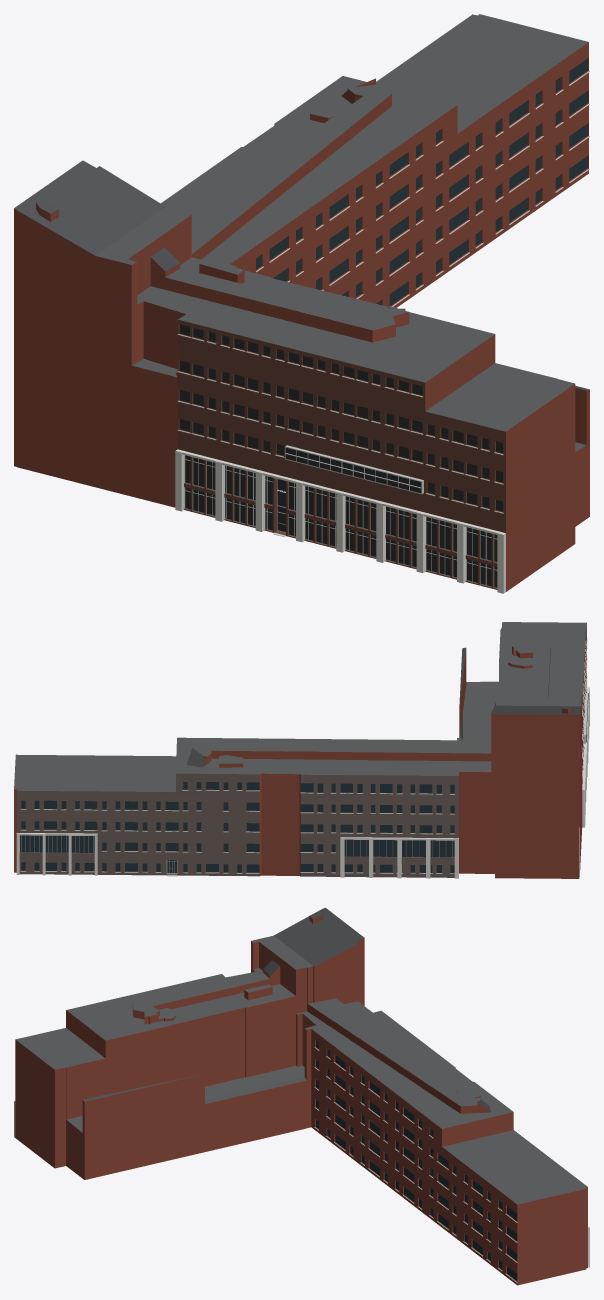
Rendered from recipe-large-stadsloket-zuidoost.glb.
3 renders of one model, top to bottom at view 1: azimuth 30°, elevation 25°; view 2: azimuth 150°, elevation 25°; view 3: azimuth 270°, elevation 25°, orthographic. The views are drawn at different scales.
Visible parts, largest first — view 1: stadsloket-zuidoost; view 2: stadsloket-zuidoost; view 3: stadsloket-zuidoost.
Part boxes in pixels (x1,y1,x2,y2): stadsloket-zuidoost: [14, 14, 589, 593]; stadsloket-zuidoost: [14, 622, 589, 878]; stadsloket-zuidoost: [14, 907, 589, 1285].
Bounding box in the file's own units: 96.43 × 32.94 × 107.
